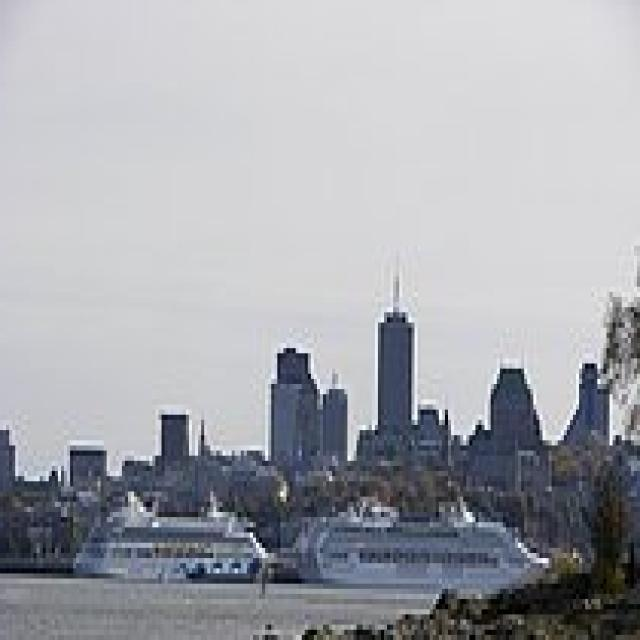Cruise: (298, 486, 558, 589), (80, 481, 278, 579)
